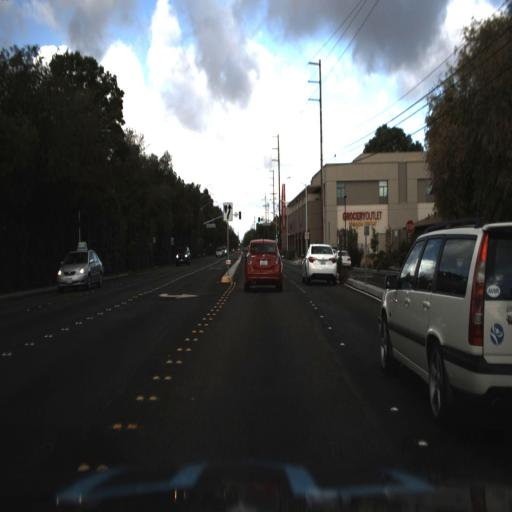car: (373, 209, 511, 457), (234, 236, 290, 297), (296, 233, 341, 292), (57, 248, 104, 294), (335, 245, 357, 271), (174, 246, 194, 268)
